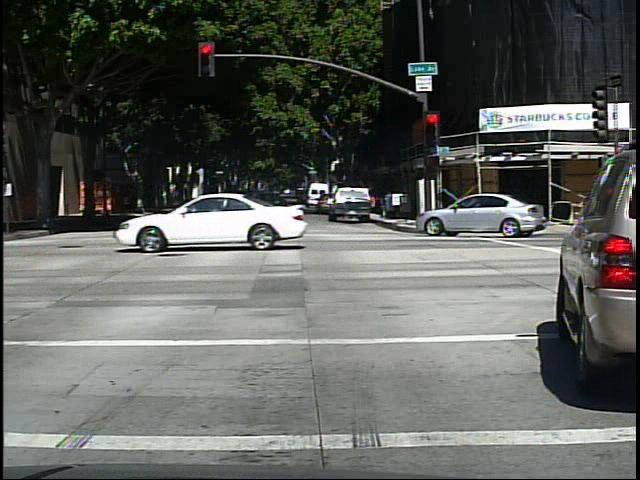person: (86, 186, 102, 220)
